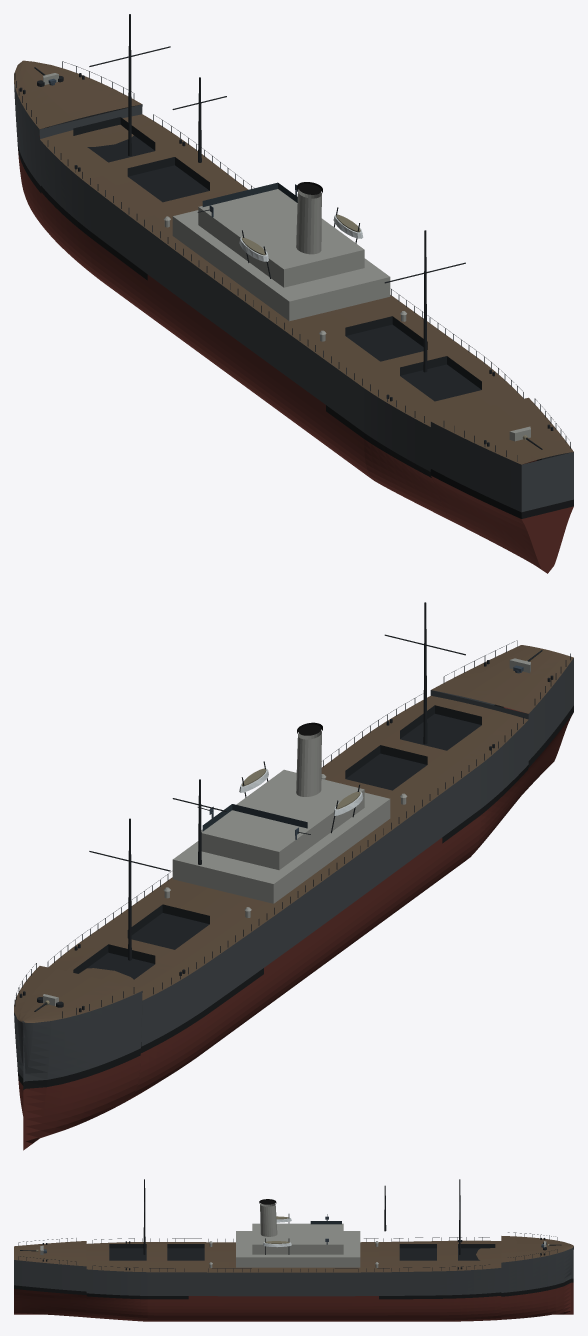
The model's file is liberty.glb.
The picture shows the model from 3 angles, top to bottom: view 1: azimuth 30°, elevation 25°; view 2: azimuth 150°, elevation 25°; view 3: azimuth 270°, elevation 25°; orthographic projection. The views are drawn at different scales.
Parts seen in each view (by area): view 1: Hull; view 2: Hull; view 3: Hull.
Boxes of the visible parts, x1,y1,x2,y2 form: Hull: (14,14,573,573); Hull: (14,602,573,1150); Hull: (14,1179,573,1321).
Size of the model in its own units: 17.3 by 36 by 135.
